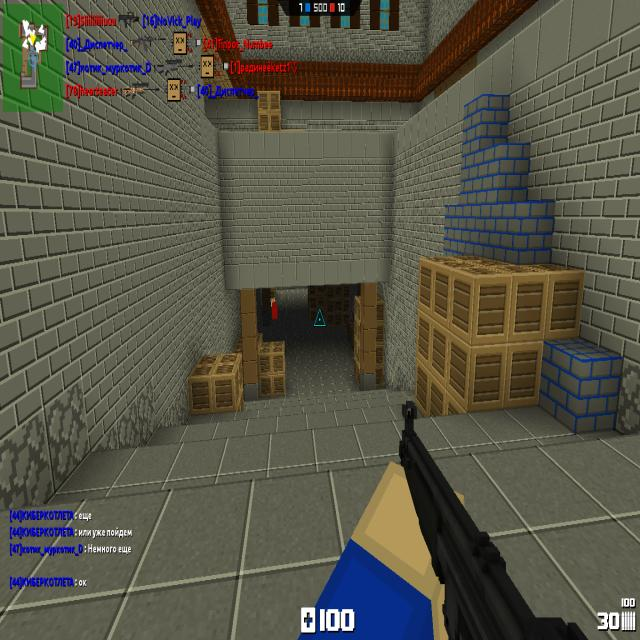enemy: (270, 296, 278, 321)
